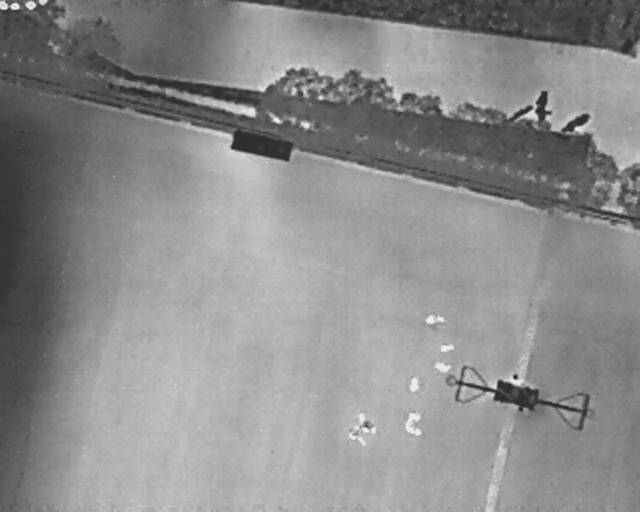Person: (342, 422, 372, 452), (401, 420, 426, 439), (357, 414, 378, 435), (432, 358, 454, 374), (437, 339, 457, 354), (423, 313, 446, 326), (408, 375, 420, 394), (406, 412, 423, 425)
